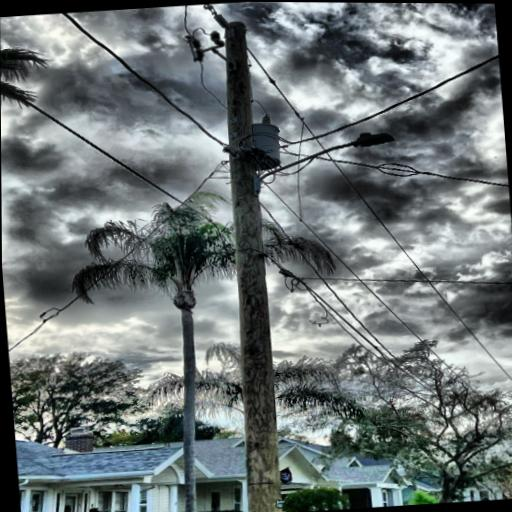pole: (196, 13, 292, 512)
street light: (236, 126, 400, 195)
transformer: (232, 115, 284, 175)
